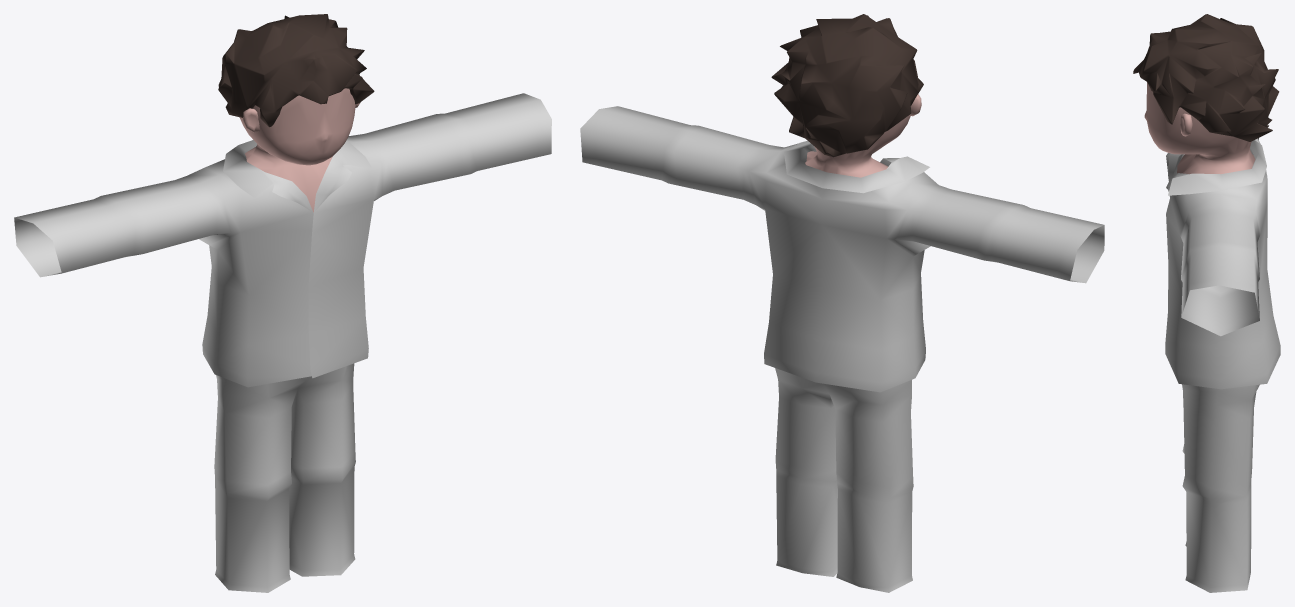
Rendered from boy2.dae.
3 renders of one model, left to right at view 1: azimuth 30°, elevation 25°; view 2: azimuth 150°, elevation 25°; view 3: azimuth 270°, elevation 25°, orthographic. The views are drawn at different scales.
Parts seen in each view (by area): view 1: Cube_001, Cube_002, Icosphere_001, Sphere_001; view 2: Cube_001, Cube_002, Icosphere_001, Sphere_001; view 3: Cube_001, Cube_002, Icosphere_001, Sphere_001.
Part boxes in pixels (x1,y1,x2,y2): Cube_001: [14, 93, 551, 387]; Cube_002: [214, 363, 355, 592]; Icosphere_001: [218, 14, 374, 127]; Sphere_001: [239, 88, 360, 212]; Cube_001: [580, 106, 1104, 392]; Cube_002: [775, 368, 913, 592]; Icosphere_001: [771, 14, 923, 157]; Sphere_001: [805, 94, 921, 177]; Cube_001: [1165, 138, 1280, 389]; Cube_002: [1182, 384, 1259, 592]; Icosphere_001: [1133, 14, 1279, 141]; Sphere_001: [1144, 82, 1255, 174].
Bounding box in the file's own units: 7.01 × 1.81 × 7.3.
